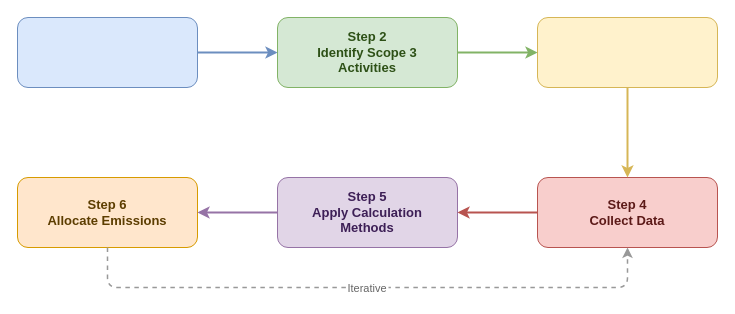
This 735x314 diagram has some shape labels left out. Here are the shapes that lost their labels. From the top down, the centre of each, then its label:
At (x=107, y=52): "Step 1 Review Accounting Steps & Principles".
At (x=627, y=52): "Step 3 Set the Scope 3 Boundary".
